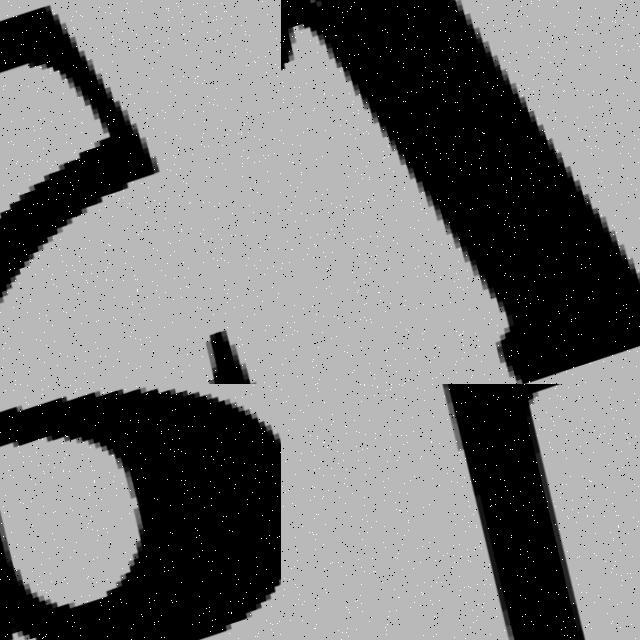5: (0, 0, 281, 384)
A: (0, 384, 281, 640)
J: (363, 384, 640, 640)
R: (281, 0, 640, 384)
